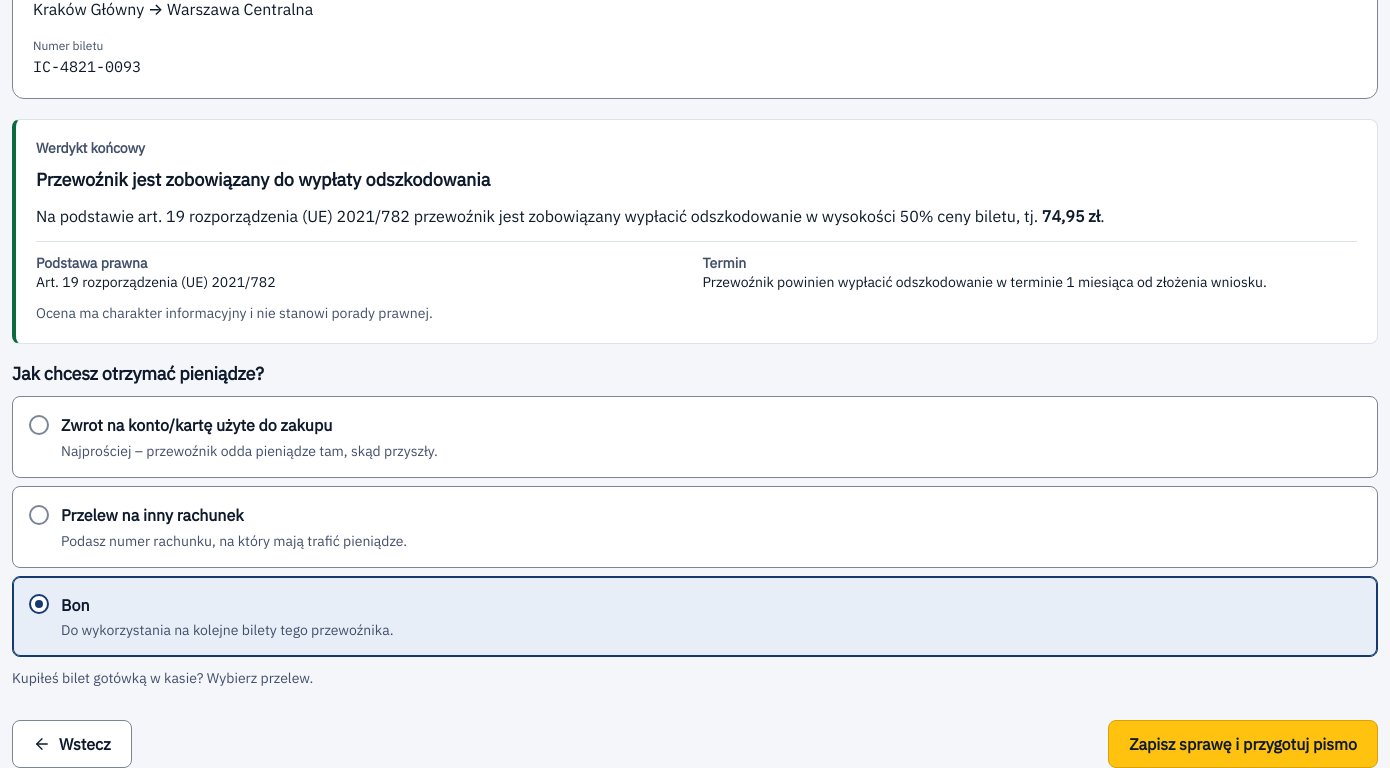
it: ResultStep – payout › blocks saving with an invalid account number
This screenshot has width=1390, height=768.
(page scrolled)
Expected: the radio button labelled "Bon Do wykorzystania na kolejne bilety tego przewoźnika." is checked, [12,576,1378,657]
Step 1. Click the radio button labelled "Przelew na inny rachunek" → (152, 515), box [12,486,1378,568]
(page scrolled)
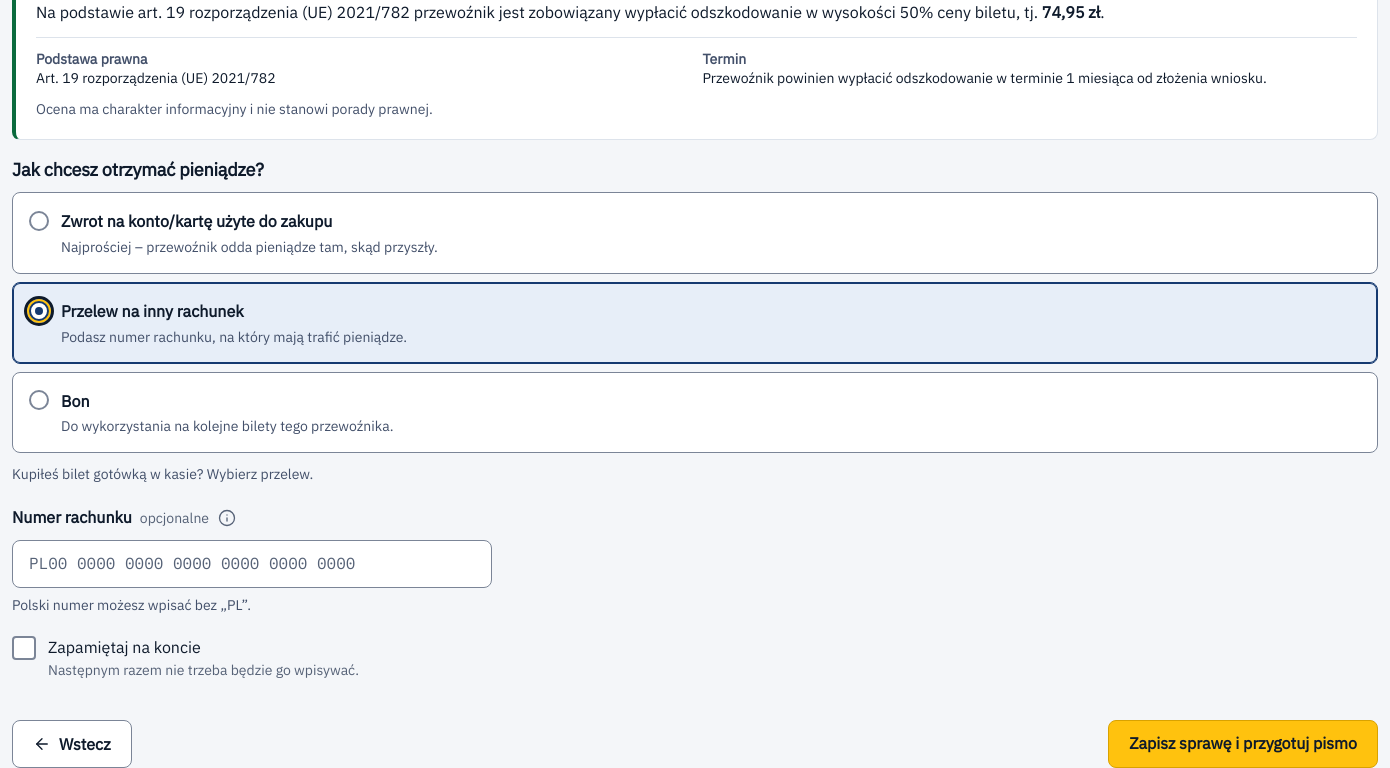
Step 2. Type "PL12 3456" into the field labelled "Numer rachunku opcjonalne" → (252, 564), box [12,540,492,588]
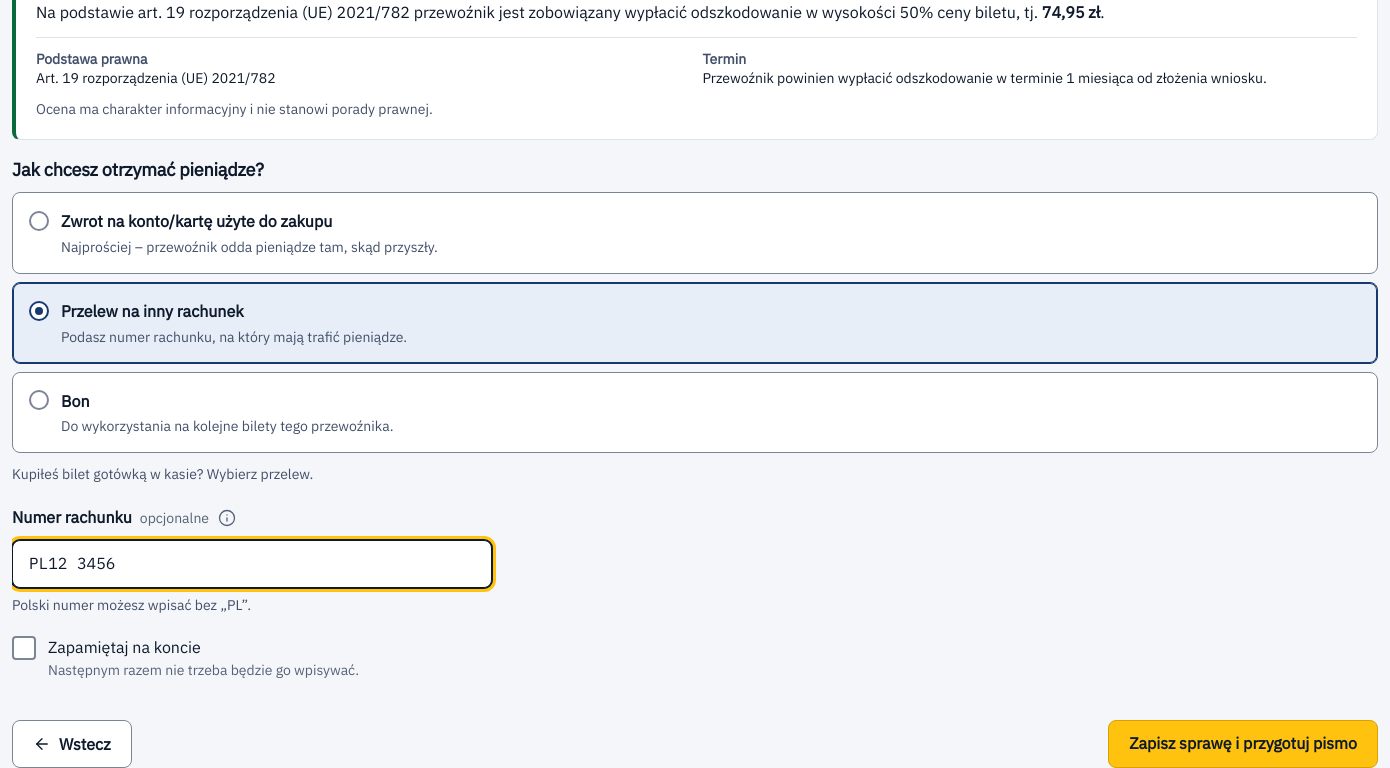
Step 3. Click the button "Zapisz sprawę i przygotuj pismo" → (1243, 744), box [1108,720,1378,767]
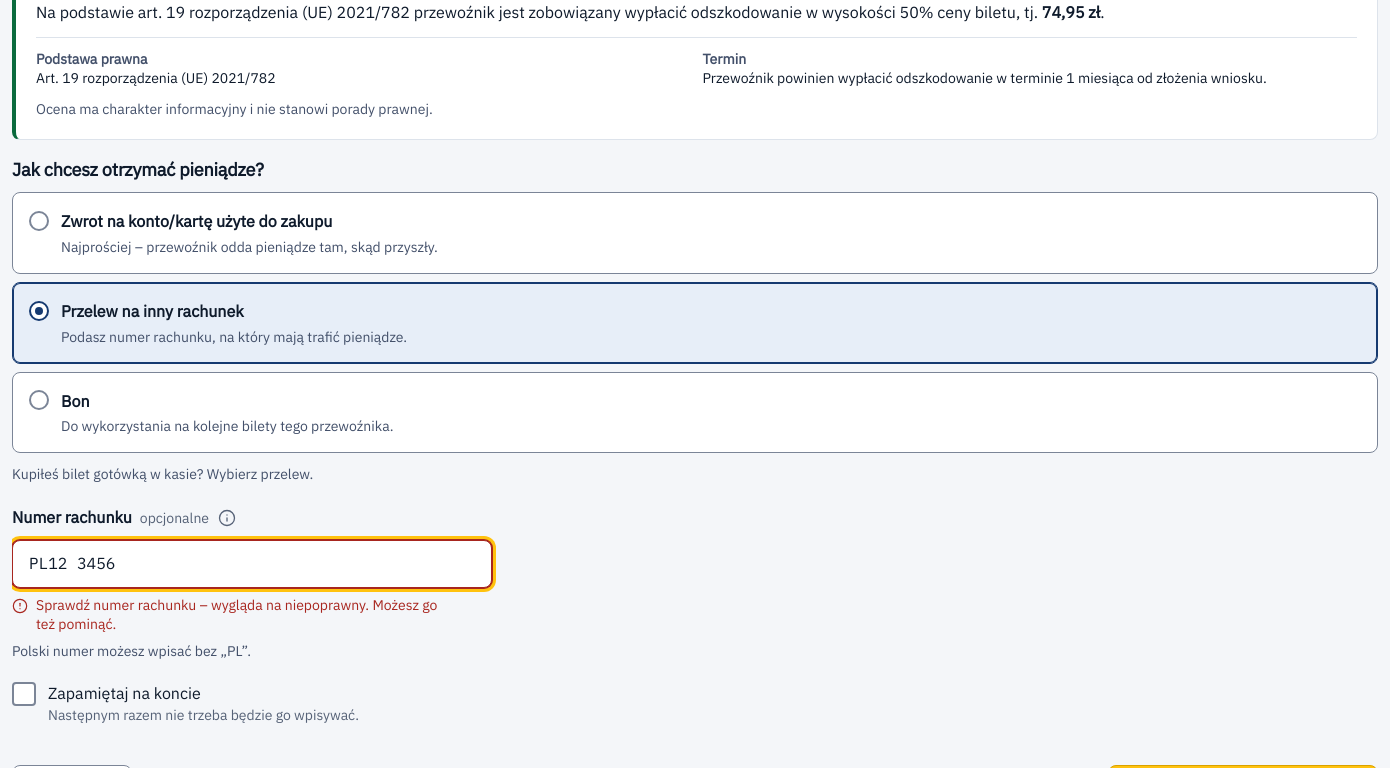
Expected: the message shows "numer rachunku", [36,596,437,633]
